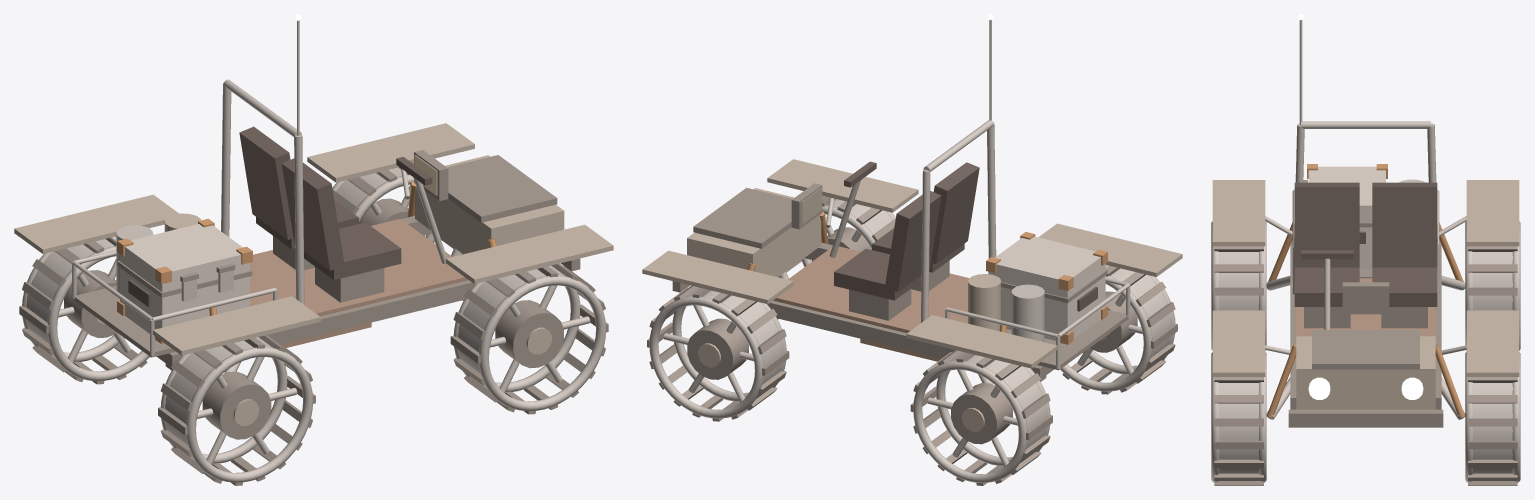
Rendered from V01_open_rover_white.glb.
3 renders of one model, left to right at view 1: azimuth 30°, elevation 25°; view 2: azimuth 150°, elevation 25°; view 3: azimuth 270°, elevation 25°, orthographic. The views are drawn at different scales.
Parts seen in each view (by area): view 1: fender (×4), tire_edge (×7), shell, hub (×4), seat_back (×2), floor_pan, tire (×4), nose_lid, nose_box, roll_bar (×3), frame_rail, seat_base (×2) (+6 smaller); view 2: fender (×4), tire_edge (×6), shell, seat_back (×2), floor_pan, hub (×3), tire (×4), nose_box, nose_lid, canister (×2), roll_bar (×3), frame_rail (+5 smaller); view 3: fender (×4), seat_back (×2), tire (×4), tread (×14), nose_box, tire_edge (×8), nose_lid, seat_base (×2), bumper, shell, roll_bar (×3), damper (×4) (+10 smaller).
Boxes of the visible parts, box(x1,y1,x2,y2) form: fender (×4): box(14, 123, 613, 355); tire_edge (×7): box(22, 174, 605, 482); shell: box(120, 224, 249, 337); hub (×4): box(64, 198, 563, 439); seat_back (×2): box(239, 126, 344, 270); floor_pan: box(250, 218, 468, 316); tire (×4): box(26, 167, 565, 460); nose_lid: box(447, 155, 557, 222); nose_box: box(415, 155, 564, 254); roll_bar (×3): box(221, 79, 304, 304); frame_rail: box(165, 280, 474, 370); seat_base (×2): box(256, 199, 401, 279); fender (×4): box(642, 159, 1182, 368); tire_edge (×6): box(649, 275, 1175, 482); shell: box(988, 236, 1105, 340); seat_back (×2): box(885, 162, 979, 292); floor_pan: box(773, 246, 969, 332); hub (×3): box(687, 291, 1137, 444); tire (×4): box(685, 196, 1171, 462); nose_box: box(687, 188, 821, 277); nose_lid: box(693, 187, 792, 248); canister (×2): box(968, 274, 1044, 342); roll_bar (×3): box(921, 120, 996, 322); frame_rail: box(767, 300, 1046, 381); fender (×4): box(1212, 180, 1519, 376); seat_back (×2): box(1294, 182, 1437, 267); tire (×4): box(1219, 252, 1512, 473); tread (×14): box(1214, 264, 1517, 480); nose_box: box(1296, 336, 1435, 409); tire_edge (×8): box(1211, 221, 1520, 482); nose_lid: box(1312, 330, 1419, 369); seat_base (×2): box(1294, 267, 1437, 306); bumper: box(1288, 409, 1443, 427); shell: box(1308, 166, 1385, 268); roll_bar (×3): box(1292, 121, 1439, 294); damper (×4): box(1267, 222, 1464, 418).
Bounding box in the file's own units: 3 × 2.68 × 2.
